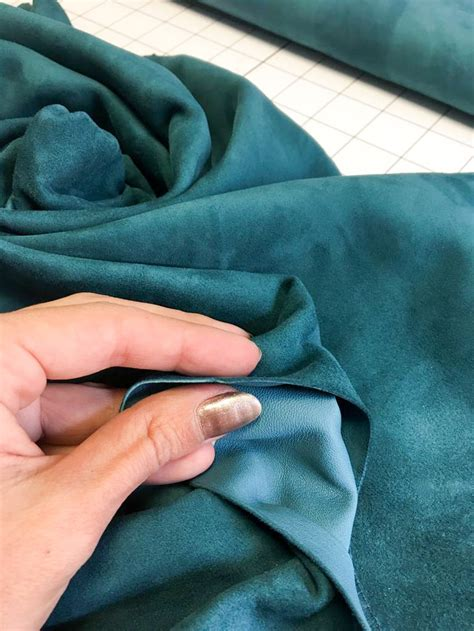gamuza: (1, 1, 474, 631)
